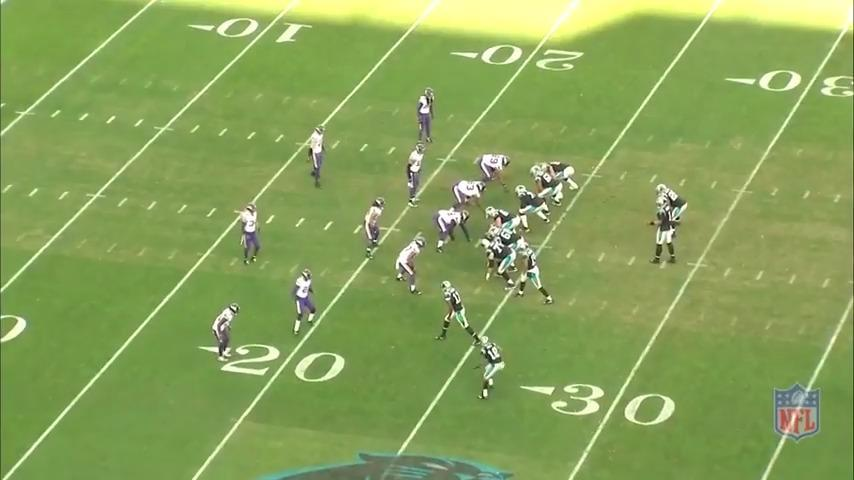defense: (394, 235, 426, 296), (290, 268, 318, 335), (242, 201, 269, 268), (213, 302, 241, 365), (363, 197, 388, 260), (432, 208, 469, 249), (309, 126, 332, 191), (450, 179, 490, 215), (406, 144, 428, 208), (473, 152, 511, 189), (415, 85, 438, 146)
oline: (480, 236, 517, 288), (514, 184, 549, 231), (528, 162, 561, 211), (484, 205, 518, 235), (486, 224, 520, 251)
qb: (647, 200, 679, 269)
skill: (437, 277, 482, 346), (508, 238, 551, 306), (476, 333, 507, 403), (656, 182, 688, 244), (541, 158, 581, 198)
